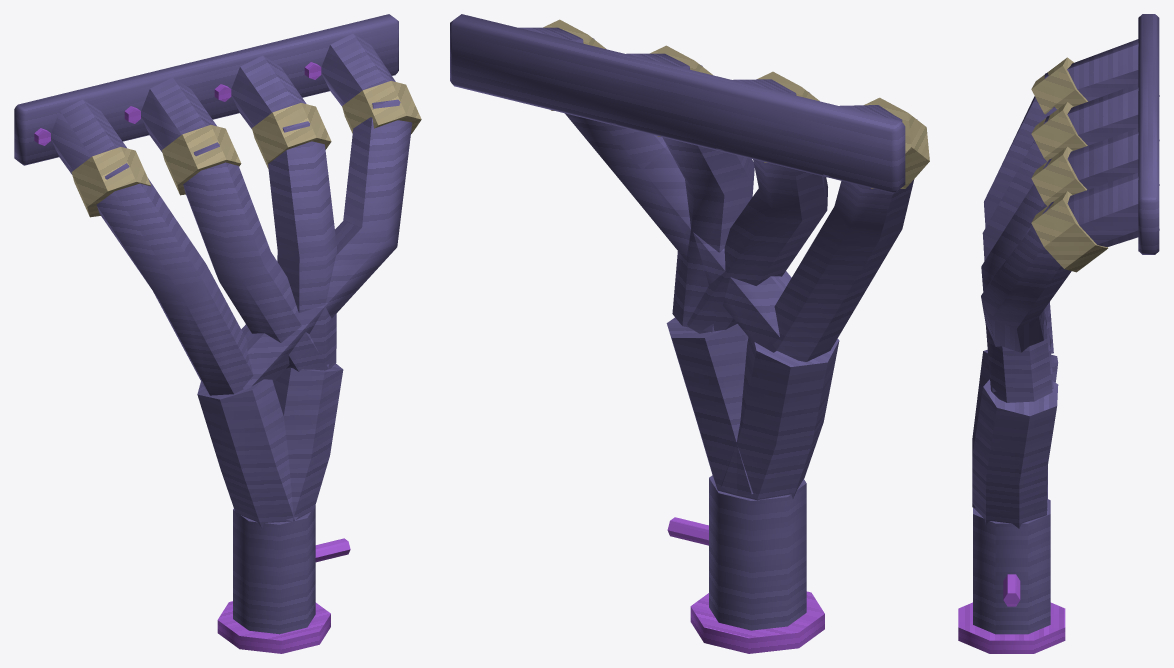
The model's file is coletor_escape_n5.glb.
3 renders of one model, left to right at view 1: azimuth 30°, elevation 25°; view 2: azimuth 150°, elevation 25°; view 3: azimuth 270°, elevation 25°, orthographic. The views are drawn at different scales.
Parts seen in each view (by area): view 1: coletor_escape_n5; view 2: coletor_escape_n5; view 3: coletor_escape_n5.
Boxes of the visible parts, <box> form: coletor_escape_n5: <box>14,14,421,653</box>; coletor_escape_n5: <box>450,14,929,653</box>; coletor_escape_n5: <box>958,14,1159,653</box>.
Bounding box in the file's own units: 0.42 × 0.55 × 0.1911.
2 materials, 2 textured.
